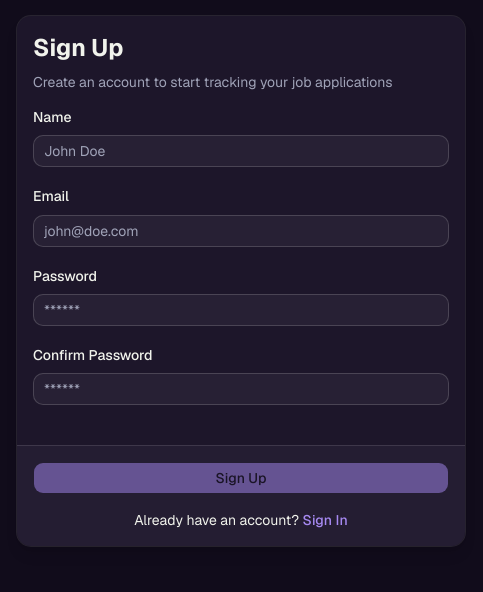
Test: SignUp › shows a required error when the password is left empty after being touched
This screenshot has width=483, height=592.
Click the password field labelled "Password" at (241, 310), box [33,294,449,326]
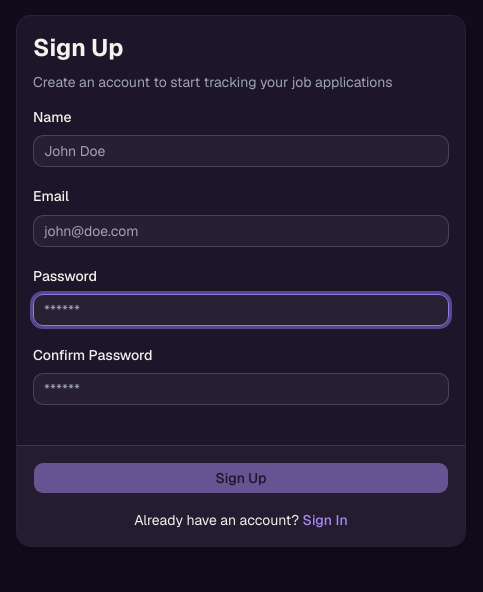
Press Tab
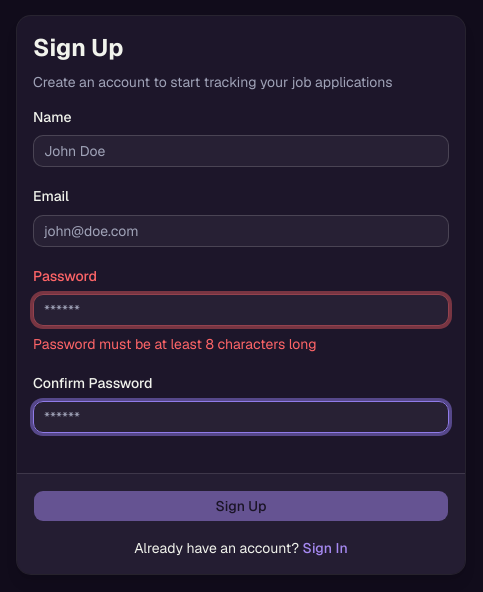
Check: the text "Password must be at least 8 characters long" is shown, box [33,335,316,353]
